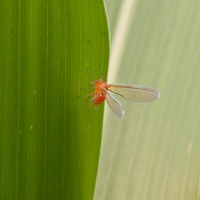insect: (91, 79, 159, 116)
